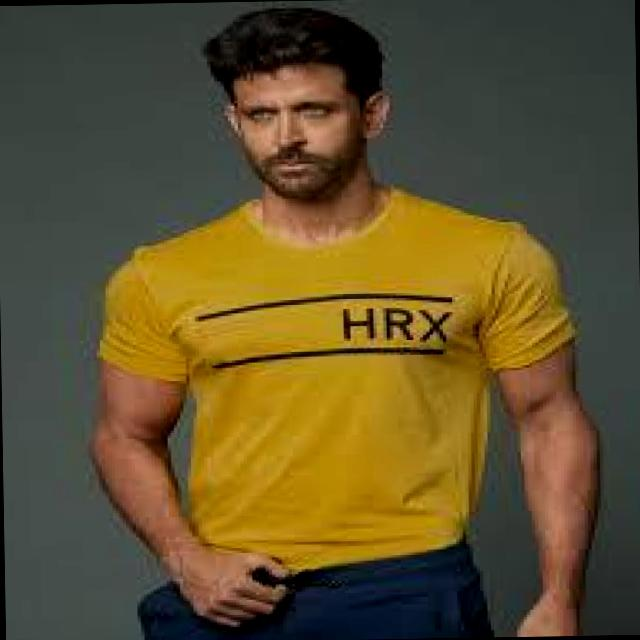Tshirt: (90, 187, 588, 590)
